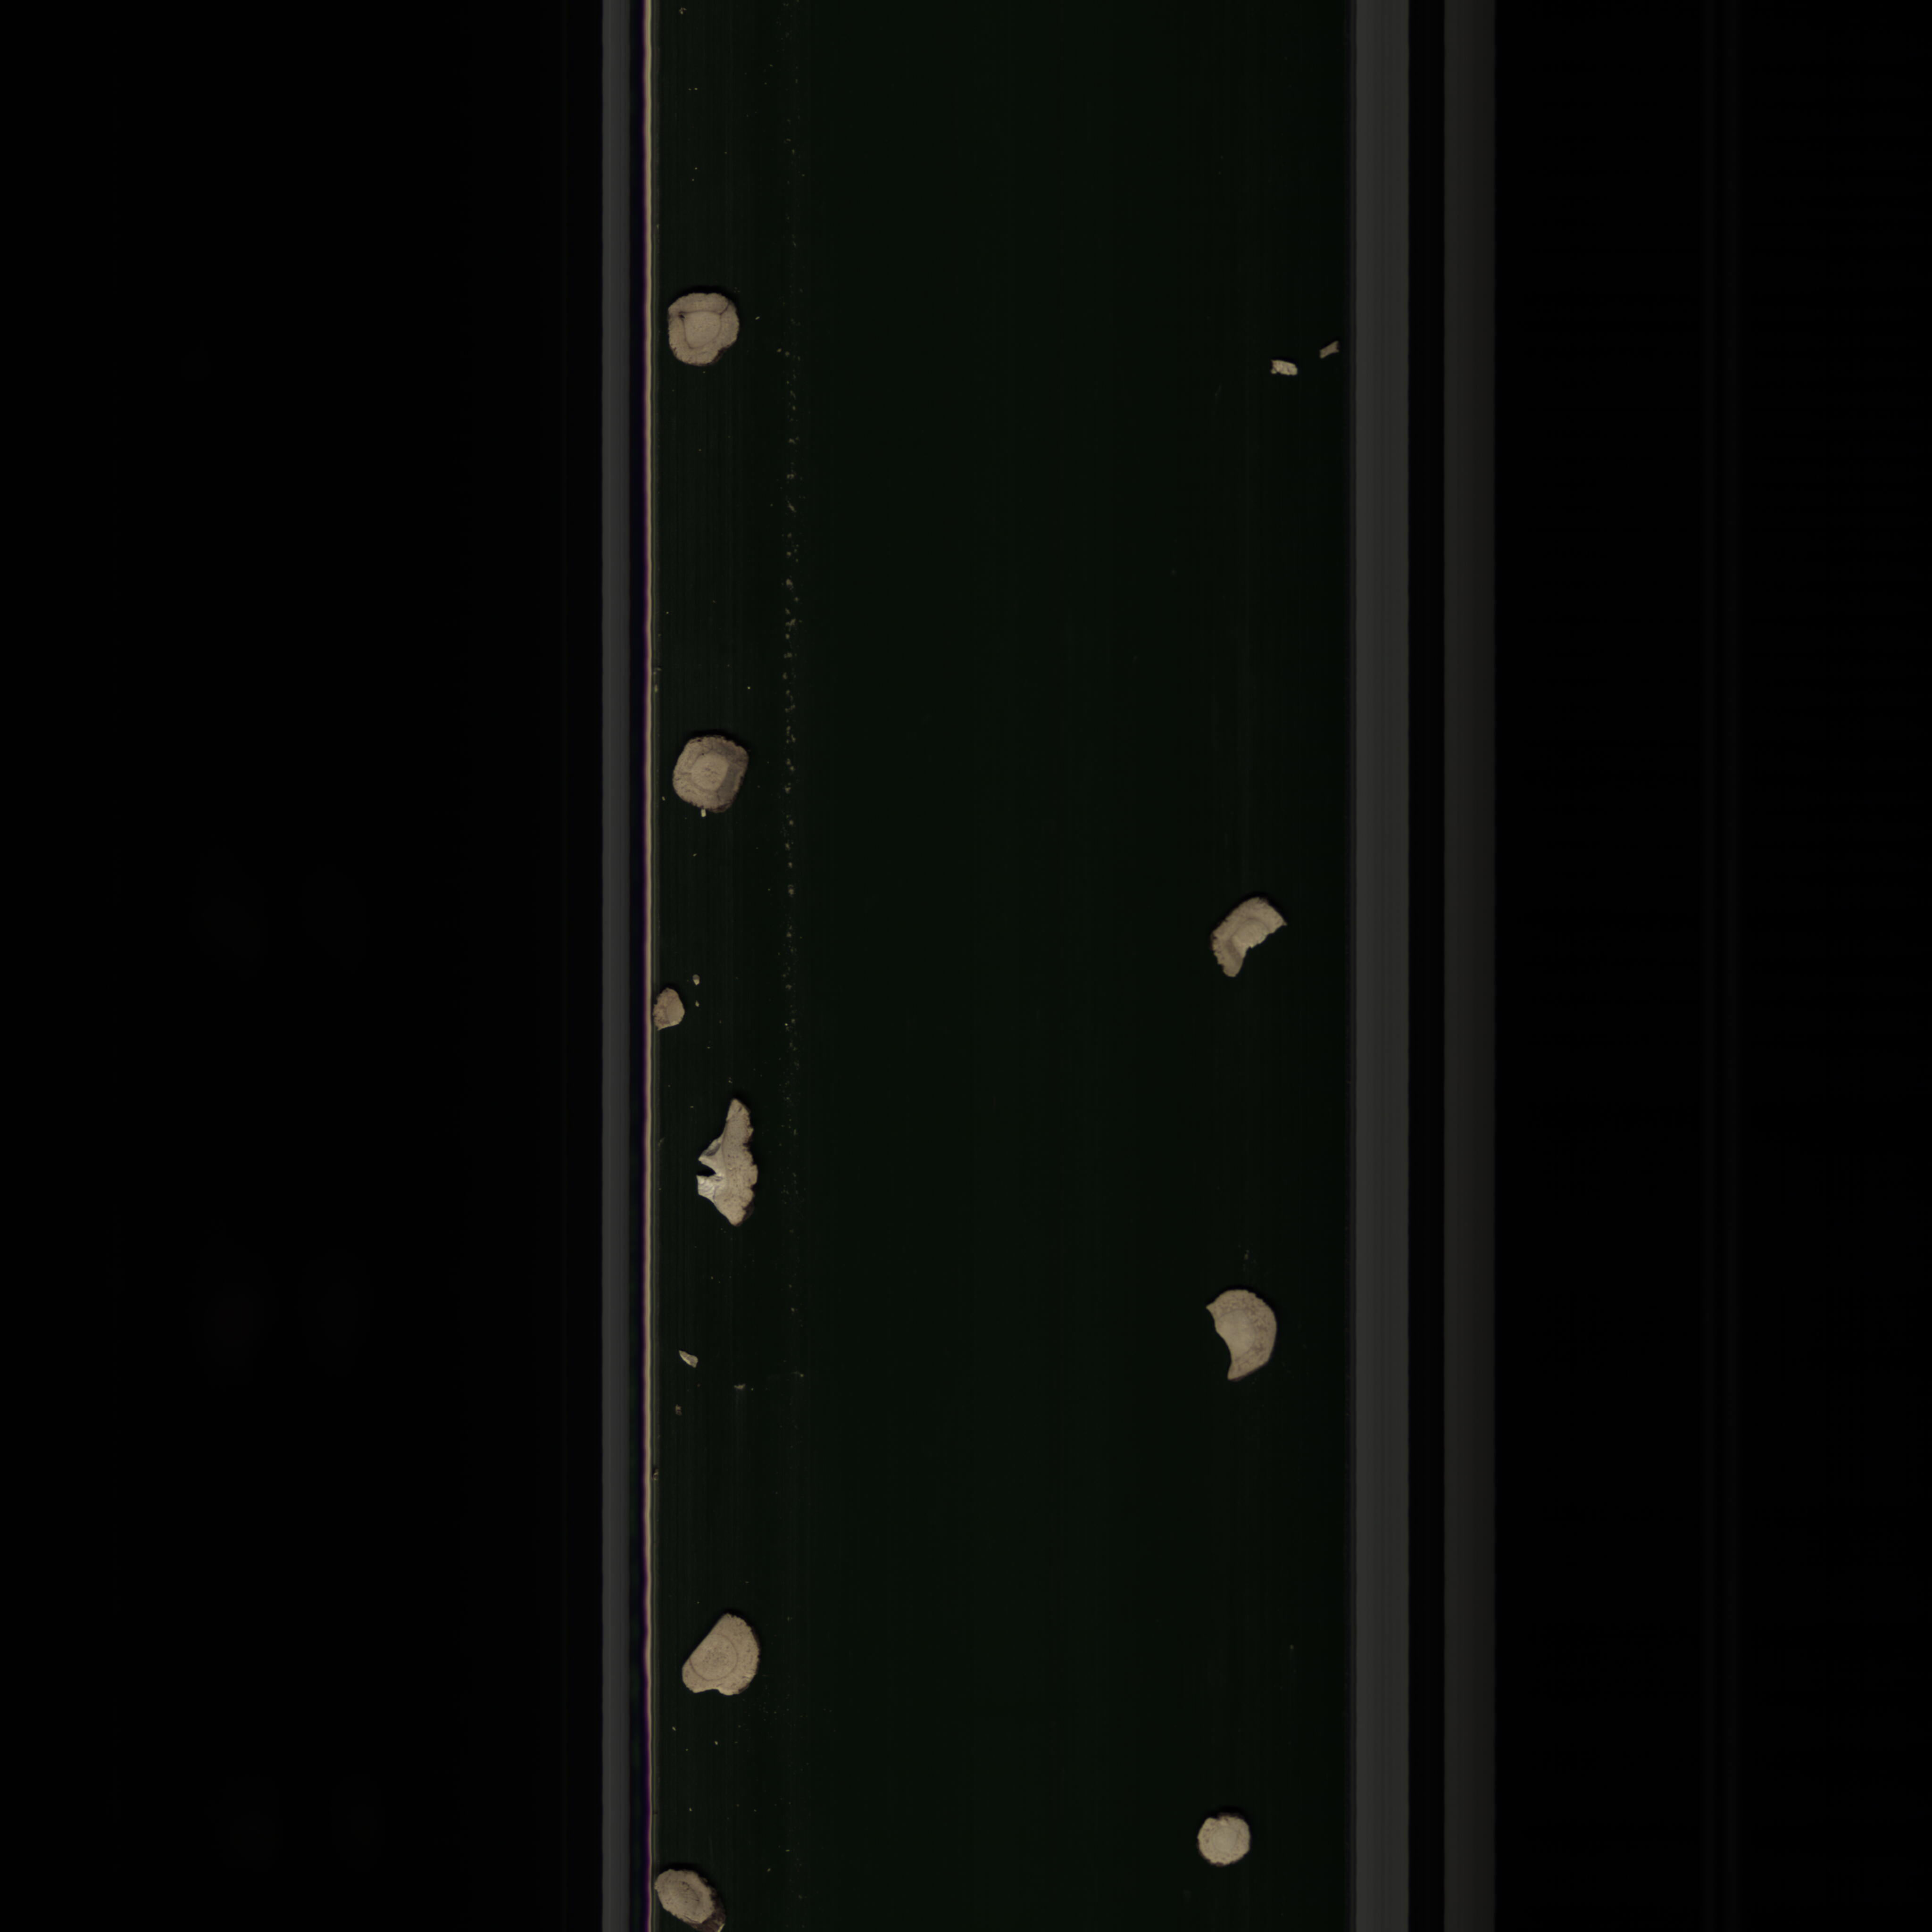debris: (692, 1088, 768, 1237), (672, 1606, 761, 1709), (1205, 1281, 1286, 1391), (1203, 892, 1304, 980), (1265, 354, 1311, 386)
